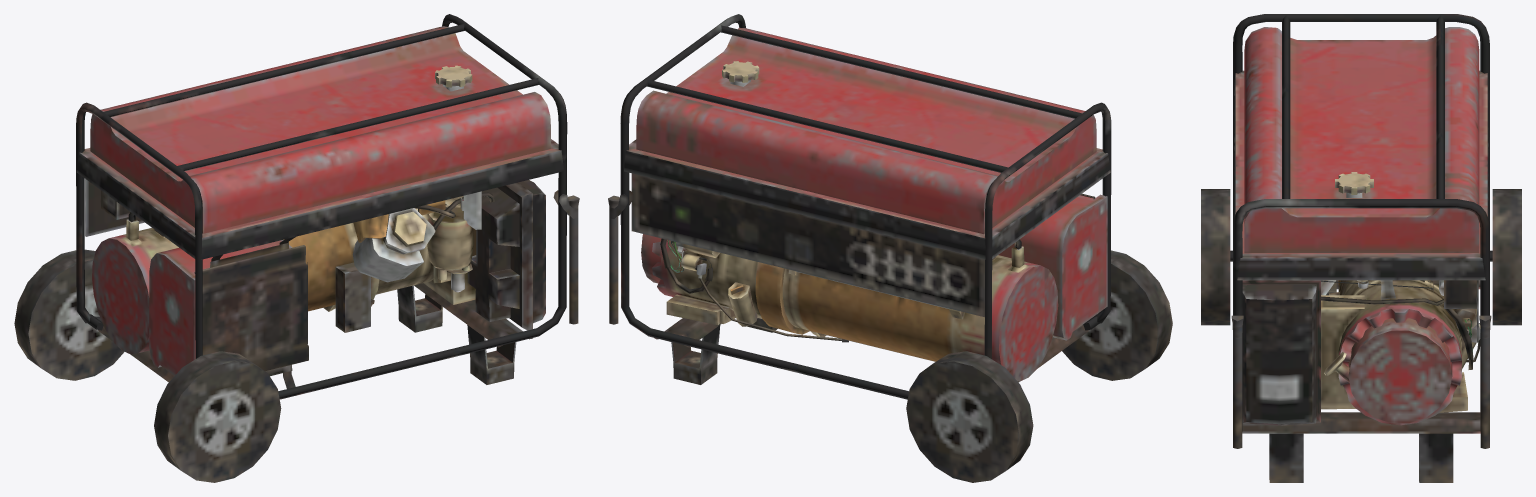
File: sm22_072_generatorb.fbx
The picture shows the model from 3 angles, left to right: view 1: azimuth 30°, elevation 25°; view 2: azimuth 150°, elevation 25°; view 3: azimuth 270°, elevation 25°; orthographic projection. The views are drawn at different scales.
Parts seen in each view (by area): view 1: LOD_1_Group_0_Sub_1__sm22_072_generatorB_A_Mat; view 2: LOD_1_Group_0_Sub_1__sm22_072_generatorB_A_Mat; view 3: LOD_1_Group_0_Sub_1__sm22_072_generatorB_A_Mat.
Part boxes in pixels (x1,y1,x2,y2): LOD_1_Group_0_Sub_1__sm22_072_generatorB_A_Mat: (14,14,579,482); LOD_1_Group_0_Sub_1__sm22_072_generatorB_A_Mat: (608,14,1172,482); LOD_1_Group_0_Sub_1__sm22_072_generatorB_A_Mat: (1201,14,1521,482).
Bounding box in the file's own units: 1.9 × 1.22 × 1.18.
